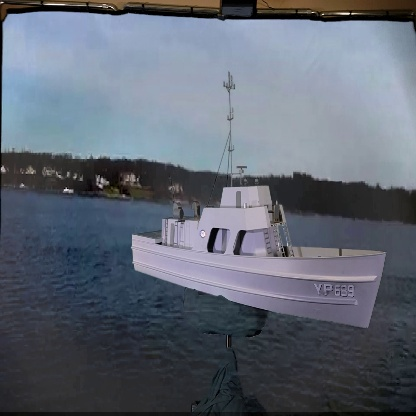YP689: (125, 70, 389, 328)
